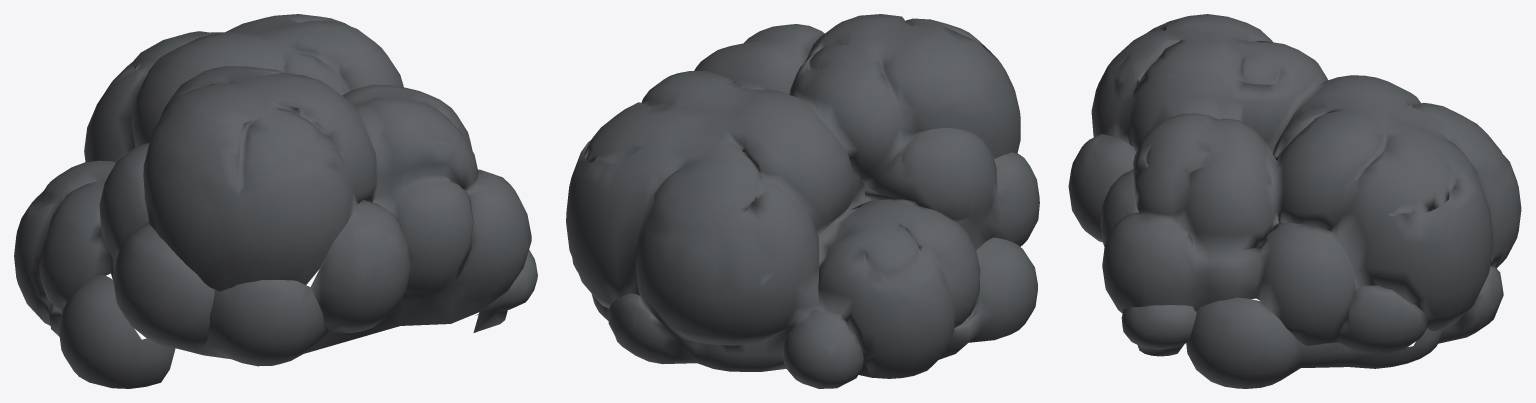
Rendered from smoke-heavy.glb.
3 renders of one model, left to right at view 1: azimuth 30°, elevation 25°; view 2: azimuth 150°, elevation 25°; view 3: azimuth 270°, elevation 25°, orthographic. The views are drawn at different scales.
Visible parts, largest first — view 1: tripo_node_714527f8-9531-4ca2-bbfd-3d2539c76132; view 2: tripo_node_714527f8-9531-4ca2-bbfd-3d2539c76132; view 3: tripo_node_714527f8-9531-4ca2-bbfd-3d2539c76132.
Boxes of the visible parts, x1,y1,x2,y2 form: tripo_node_714527f8-9531-4ca2-bbfd-3d2539c76132: (14,14,537,388); tripo_node_714527f8-9531-4ca2-bbfd-3d2539c76132: (566,14,1039,388); tripo_node_714527f8-9531-4ca2-bbfd-3d2539c76132: (1068,14,1521,388).
Size of the model in its own units: 0.7353 by 0.4565 by 0.75.
1 material, 1 textured.
